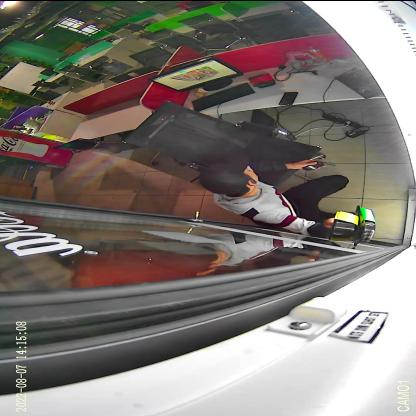green: (354, 204, 376, 245)
yellow: (329, 209, 360, 240)
